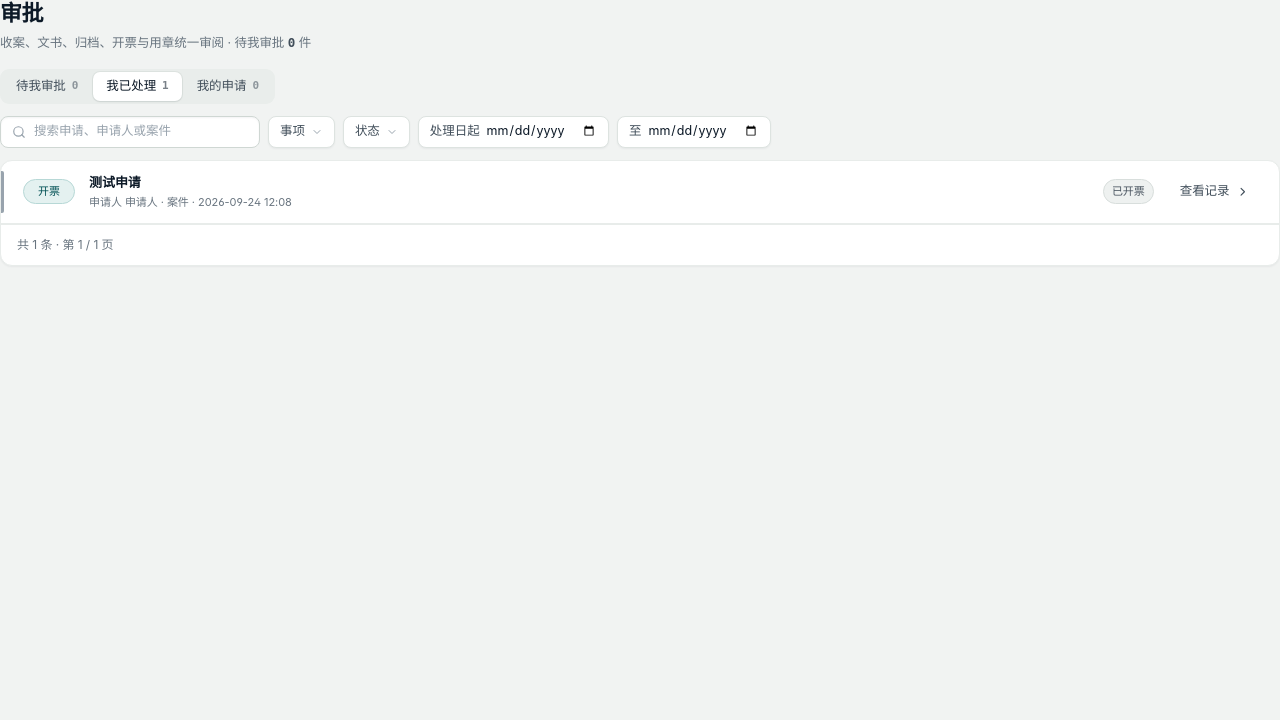
Test: 缺陷修复界面流程 › 已处理详情展示历史意见且不出现处理表单或审批按钮
Click the button "查看记录" at (1214, 192), box [1168,177,1261,206]
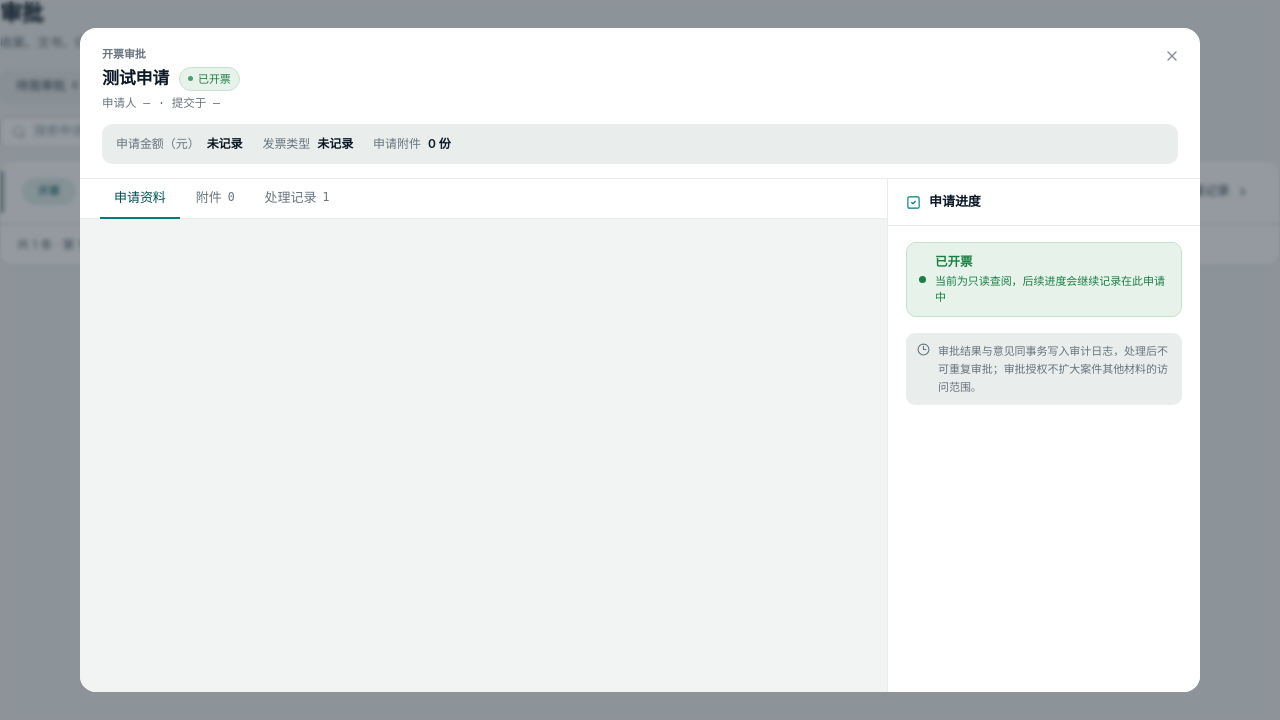
Press the mouse on the tab "处理记录 1" at (297, 199), box [251,179,343,219]
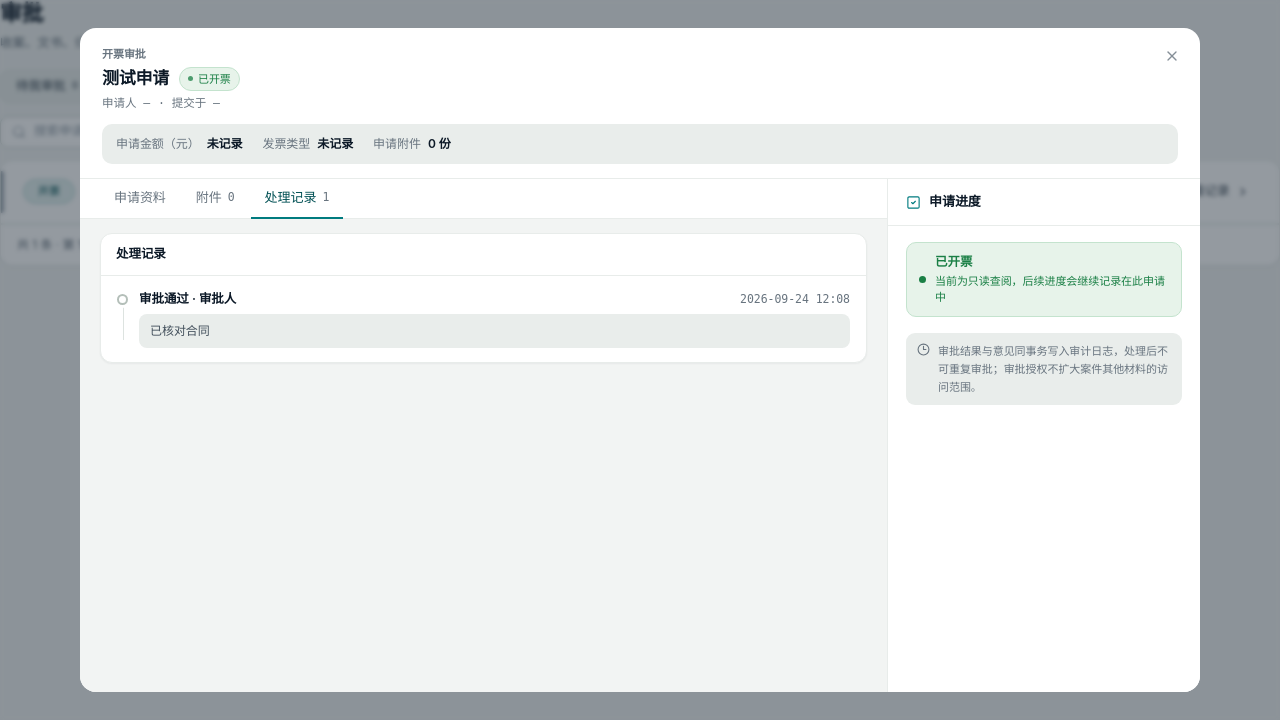
Expected: the text "已核对合同" is shown, [139,314,850,348]
